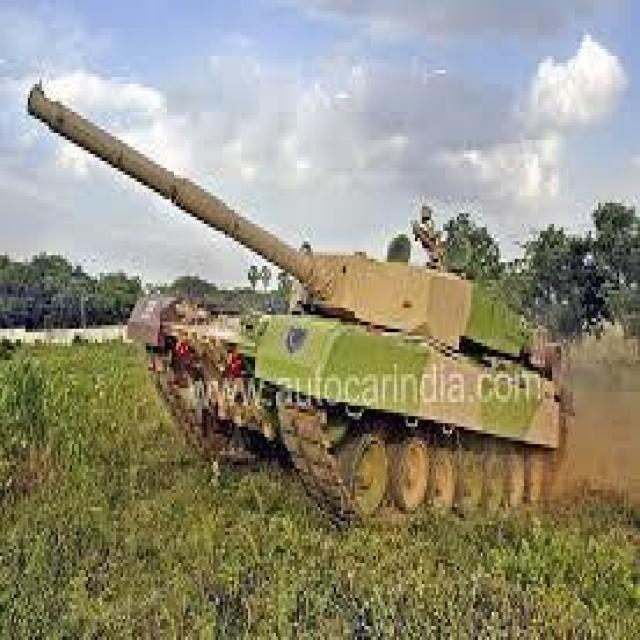Tanks: (121, 152, 572, 526)
